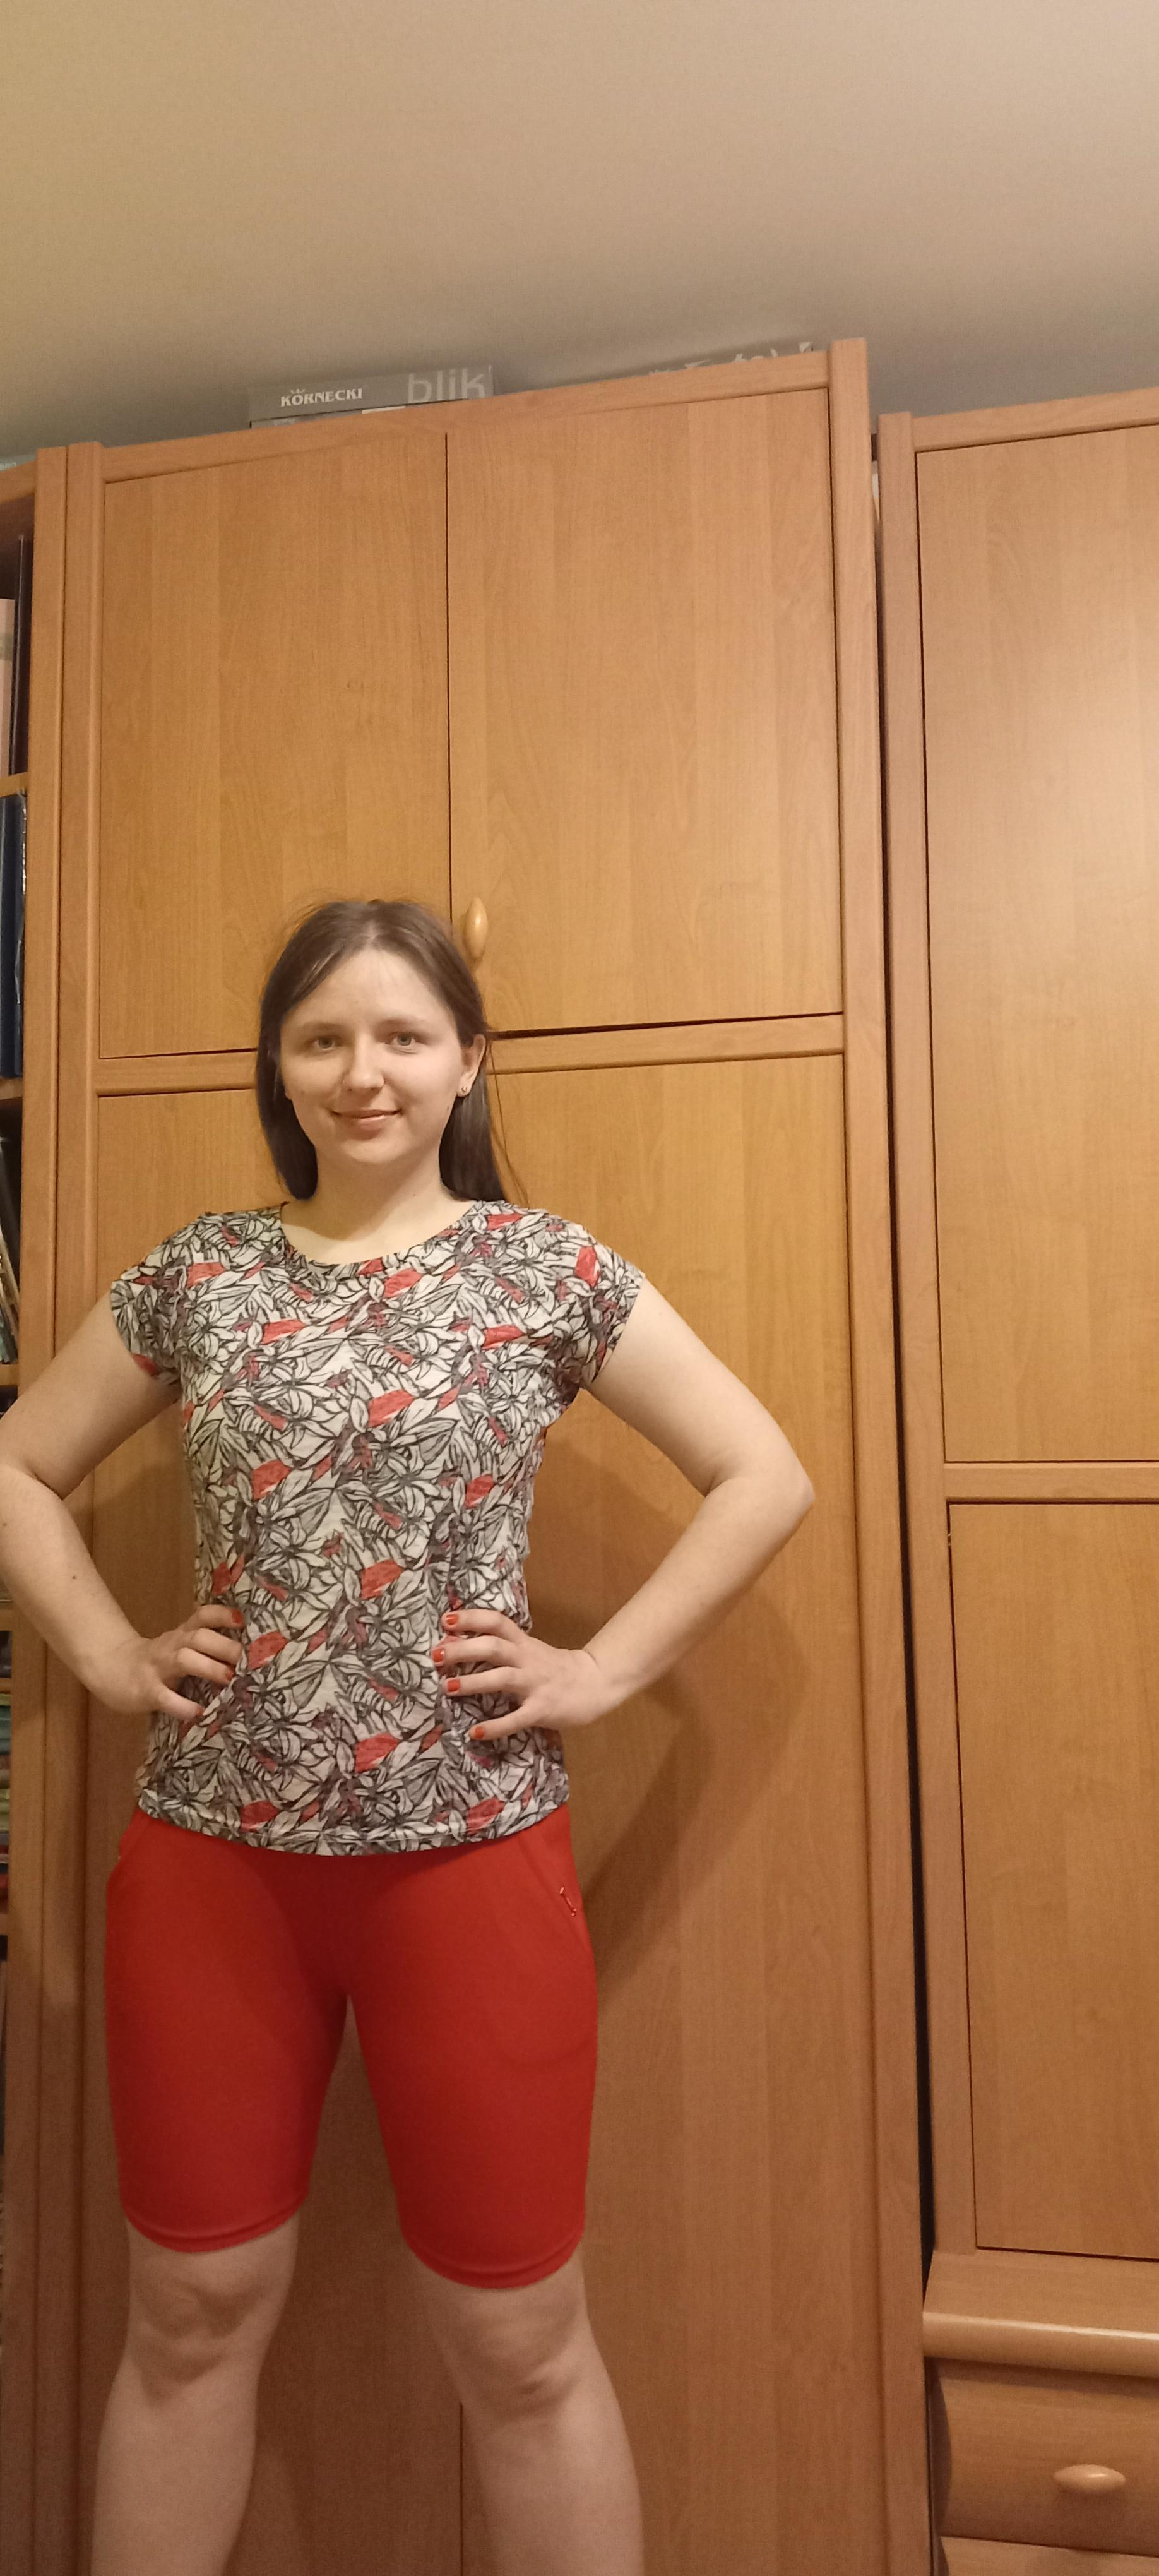Tshirt: (110, 1199, 647, 1856)
short: (102, 1799, 601, 2288)
